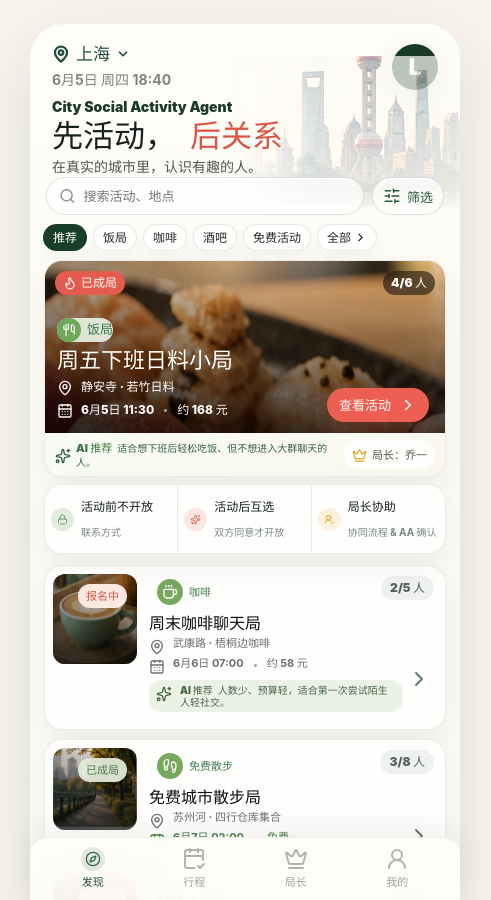
App signup flow › shows the activity formation status on itinerary
The width and height of the screenshot is (491, 900).
Click the button named "查看 周末咖啡聊天局" at coordinates (419, 679), box [405,665,433,693]
(page scrolled)
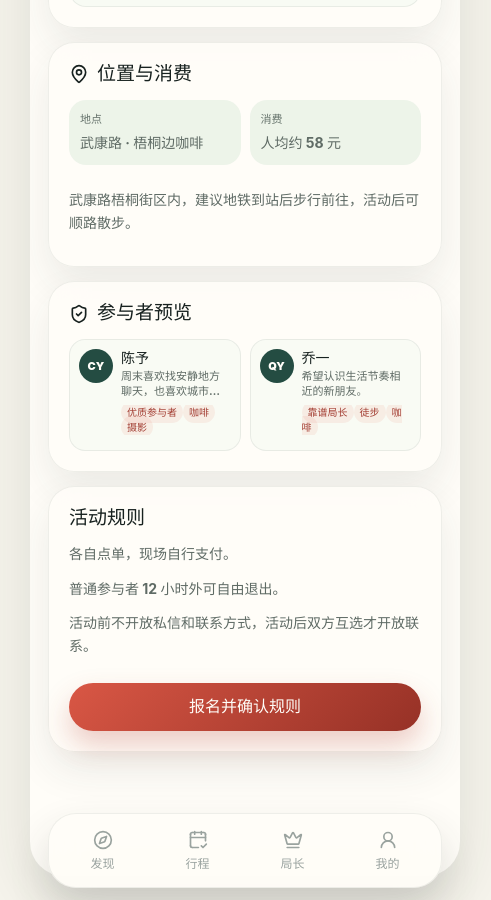
Click the button "报名并确认规则" at coordinates (245, 707), box [69,683,421,731]
(page scrolled)
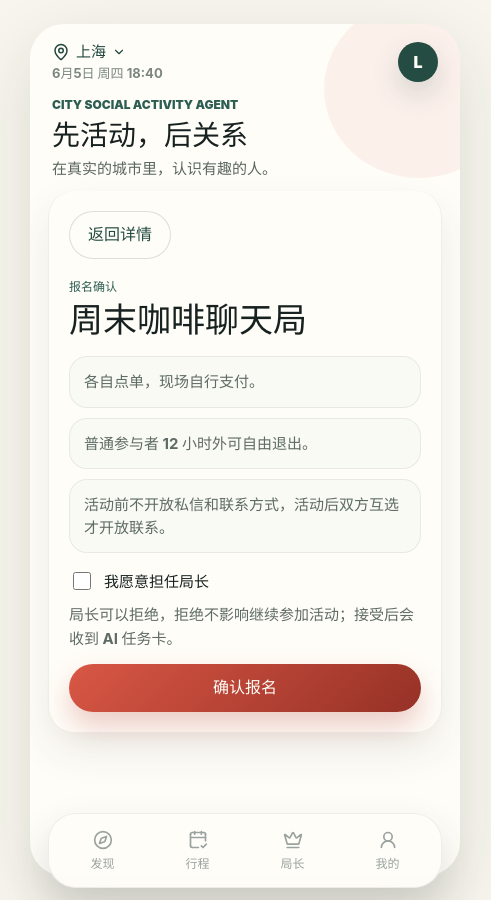
Click the button "确认报名" at coordinates (245, 688), box [69,664,421,712]
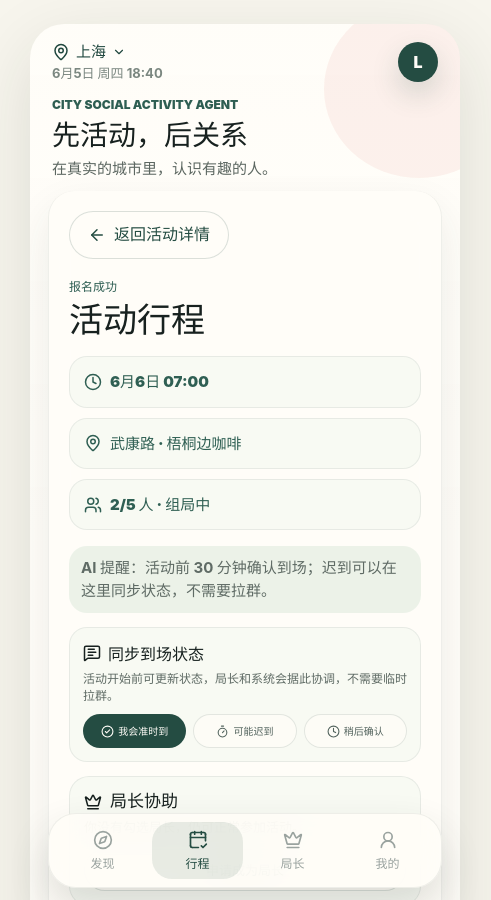
Expected: the text "2/5 人 · 组局中" is shown, [69,479,421,530]
